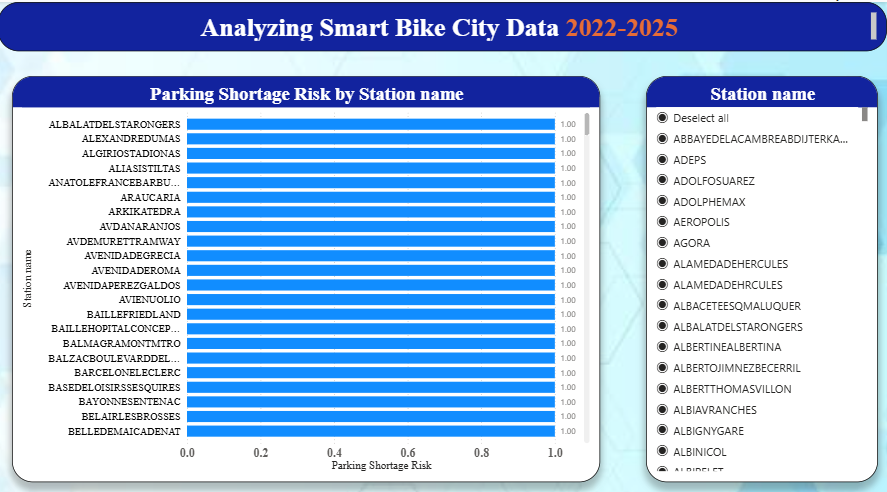

What the dashboard file says about the page in this screenshot:
{"tool":"powerbi","page":{"name":"Dashboard2","canvas":[1280,720],"ordinal":1},"visuals":[{"type":"clusteredBarChart","fields":{"Y":["Measure Table.Parking Shortage Risk"],"Category":["Data_Table.Station name"]},"box":[20.2,106.6,846.7,584.6],"z":0},{"type":"listSlicer","fields":{"Values":["Data_Table.Station name"]},"box":[933.1,106.6,334.1,584.6],"z":1000},{"type":"textbox","box":[0,0,1280.2,70.6],"z":2000}]}

Visuals, with their boxes in screenshot pixels (x1, y1, x2, y2), scaled from the page's 1280x720 canvas onto the 887x492 screenshot:
clusteredBarChart - Measure Table.Parking Shortage Risk x Data_Table.Station name: select_region(14, 73, 601, 472)
listSlicer - Data_Table.Station name: select_region(647, 73, 878, 472)
textbox: select_region(0, 0, 886, 48)
